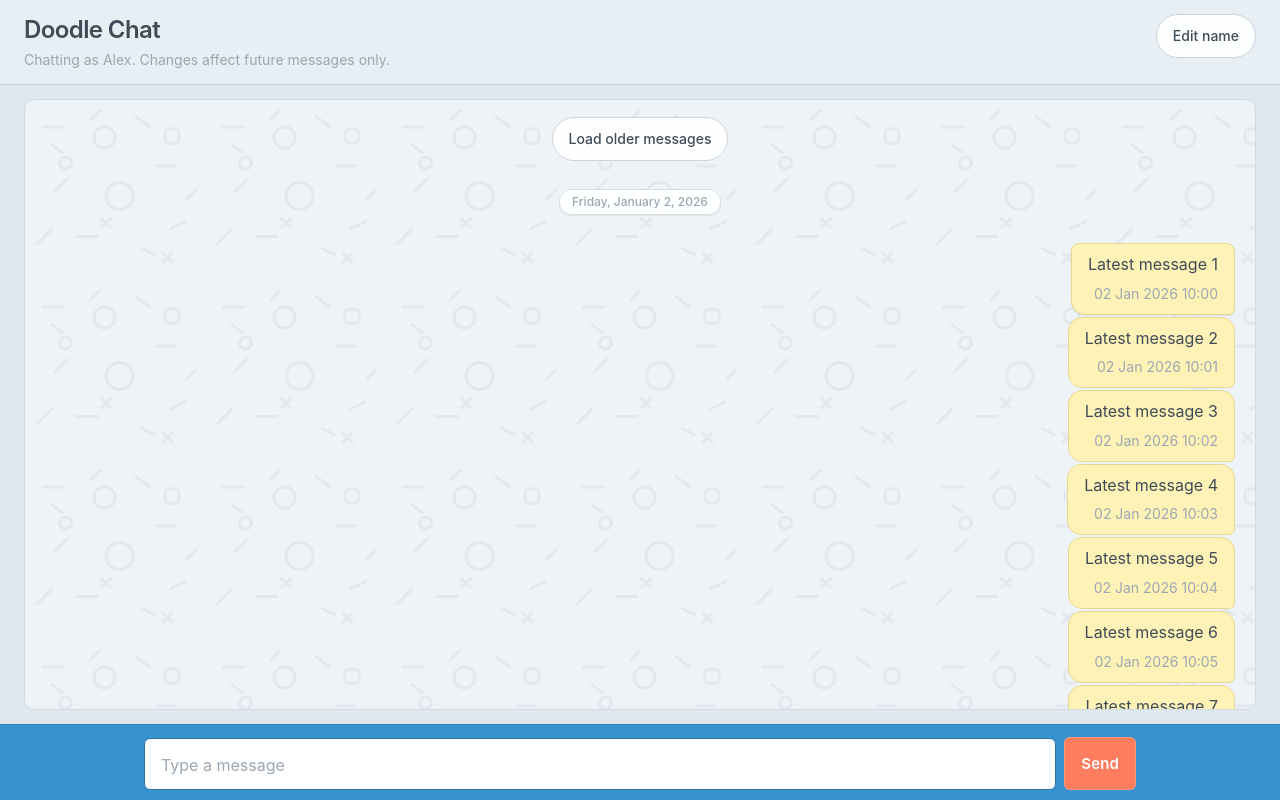
Test: ChatScreen optimistic composer integration › keeps live announcements silent for initial and older history loads
Check: the text "Latest message 1" is shown, box left=1088, top=254, right=1218, bottom=276
Click the button "Load older messages" at (640, 139), box left=552, top=117, right=728, bottom=161
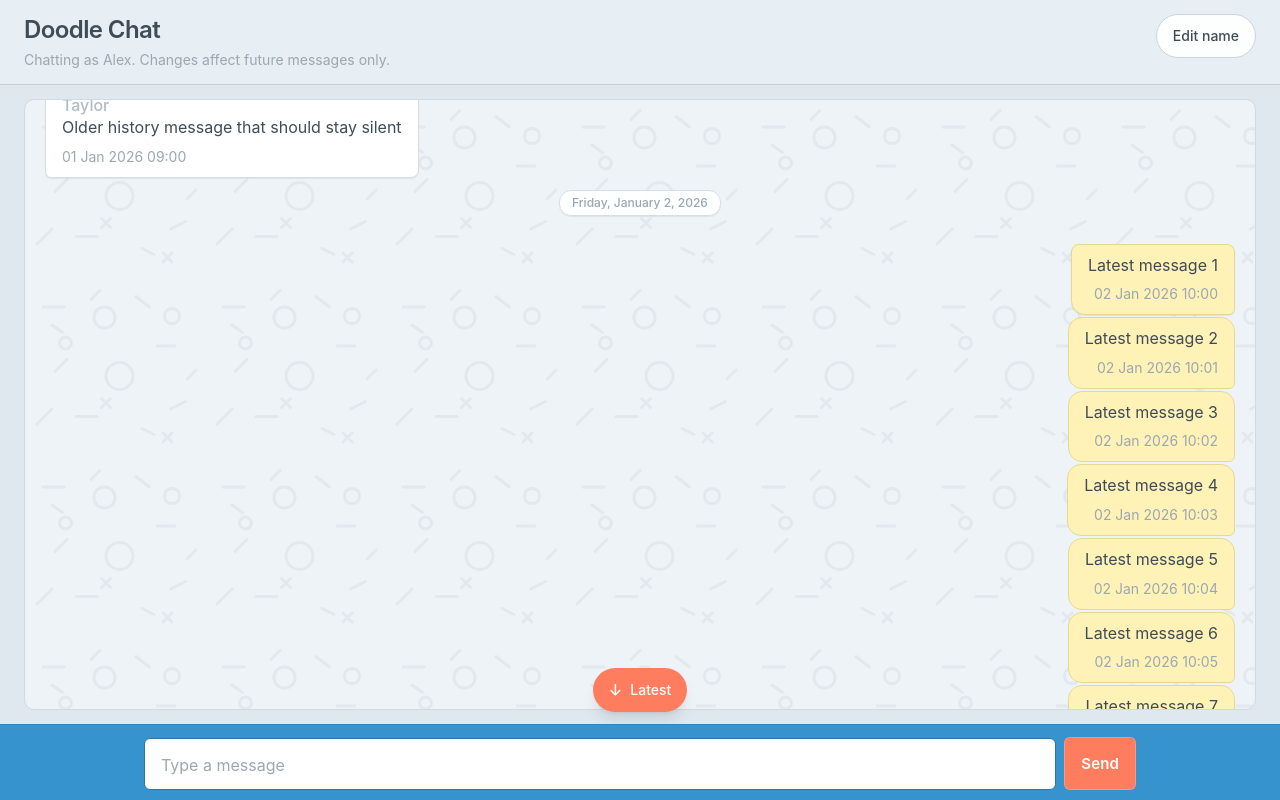
Check: the text "Older history message that should stay silent" is shown, box left=62, top=117, right=402, bottom=139
